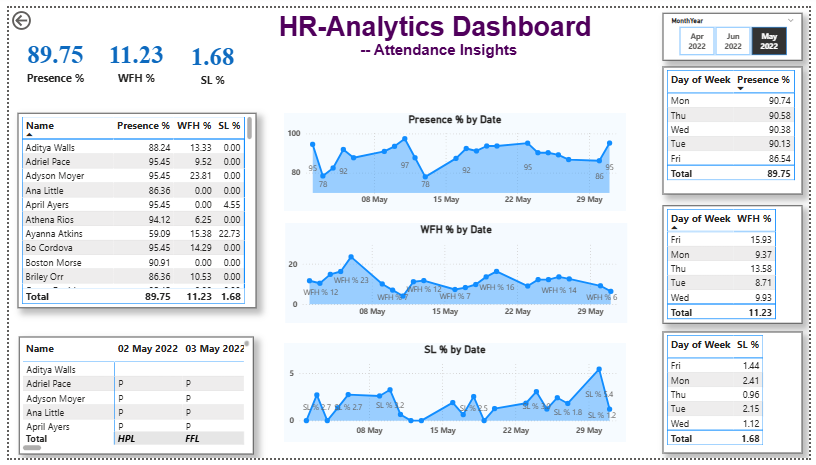

Layout of this report page (visuals, bound fields, positions):
{"tool":"powerbi","page":{"name":"Page 1","canvas":[1280,720],"ordinal":0},"visuals":[{"type":"card","fields":{"Values":["Final Data.Presence %"]},"box":[15,40,116.7,88.3],"z":0},{"type":"card","fields":{"Values":["Final Data.WFH %"]},"box":[148.3,38.3,111.7,90],"z":1000},{"type":"slicer","fields":{"Values":["Final Data.MonthYear"]},"box":[1045.7,7.1,222.9,75.7],"z":2000},{"type":"card","fields":{"Values":["Final Data.SL %"]},"box":[276.7,41.7,100,88.3],"z":3000},{"type":"pivotTable","fields":{"Rows":["Final Data.Name"],"Values":["Final Data.Value"],"Columns":["Final Data.Date"]},"box":[15,526.7,375,188.3],"z":4000},{"type":"tableEx","fields":{"Values":["Final Data.Name","Final Data.Presence %","Final Data.WFH %","Final Data.SL %"]},"box":[13.3,168.3,381.7,311.7],"z":5000},{"type":"actionButton","box":[0,0,100,40],"z":6000},{"type":"stackedAreaChart","fields":{"Y":["Final Data.Presence %"],"Category":["Final Data.Date"]},"box":[440,167.1,547.1,157.1],"z":7000},{"type":"stackedAreaChart","fields":{"Y":["Final Data.WFH %"],"Category":["Final Data.Date"]},"box":[441.4,344.3,547.1,160],"z":8000},{"type":"tableEx","fields":{"Values":["Final Data.Day of Week","Final Data.Presence %"]},"box":[1045.7,94.3,222.9,204.3],"z":9000},{"type":"stackedAreaChart","fields":{"Y":["Final Data.SL %"],"Category":["Final Data.Date"]},"box":[440,535.7,547.1,158.6],"z":10000},{"type":"tableEx","fields":{"Values":["Final Data.Day of Week","Final Data.WFH %"]},"box":[1045.7,315.7,222.9,188.6],"z":11000},{"type":"tableEx","fields":{"Values":["Final Data.Day of Week","Final Data.SL %"]},"box":[1045.7,518.6,222.9,194.3],"z":12000},{"type":"textbox","box":[424,0,527,94],"z":13000}]}

Visuals, with their boxes in screenshot pixels (x1, y1, x2, y2), scaled from the page's 1280x720 canvas onto the 816x465 screenshot:
card - Final Data.Presence %: 10,26,84,83
card - Final Data.WFH %: 95,25,166,83
slicer - Final Data.MonthYear: 667,5,809,53
card - Final Data.SL %: 176,27,240,84
pivotTable - Final Data.Name x Final Data.Value: 10,340,249,462
tableEx - Final Data.Name x Final Data.Presence %: 8,109,252,310
actionButton: 0,0,64,26
stackedAreaChart - Final Data.Presence % x Final Data.Date: 280,108,629,209
stackedAreaChart - Final Data.WFH % x Final Data.Date: 281,222,630,326
tableEx - Final Data.Day of Week x Final Data.Presence %: 667,61,809,193
stackedAreaChart - Final Data.SL % x Final Data.Date: 280,346,629,448
tableEx - Final Data.Day of Week x Final Data.WFH %: 667,204,809,326
tableEx - Final Data.Day of Week x Final Data.SL %: 667,335,809,460
textbox: 270,0,606,61
